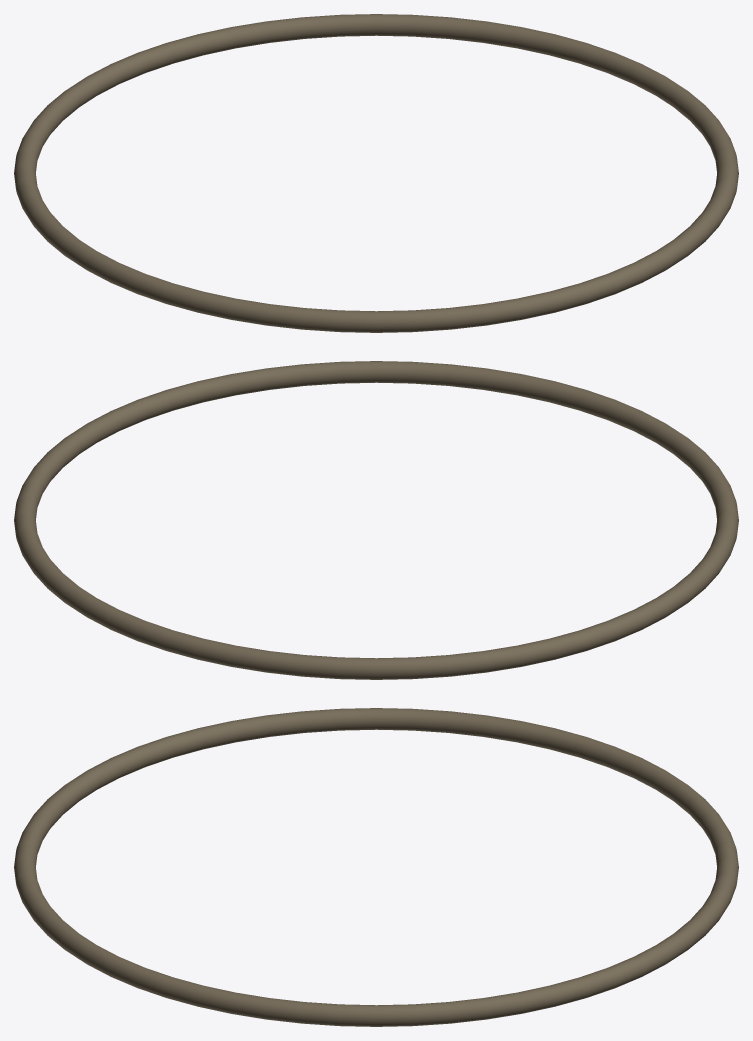
File: shore-ring.glb
3 renders of one model, top to bottom at view 1: azimuth 30°, elevation 25°; view 2: azimuth 150°, elevation 25°; view 3: azimuth 270°, elevation 25°, orthographic.
Visible parts, largest first — view 1: Shore Ring; view 2: Shore Ring; view 3: Shore Ring.
Part boxes in pixels (x1,y1,x2,y2): Shore Ring: (14,14,738,332); Shore Ring: (14,361,738,679); Shore Ring: (14,708,738,1026).
Bounding box in the file's own units: 305 × 9.06 × 305.
